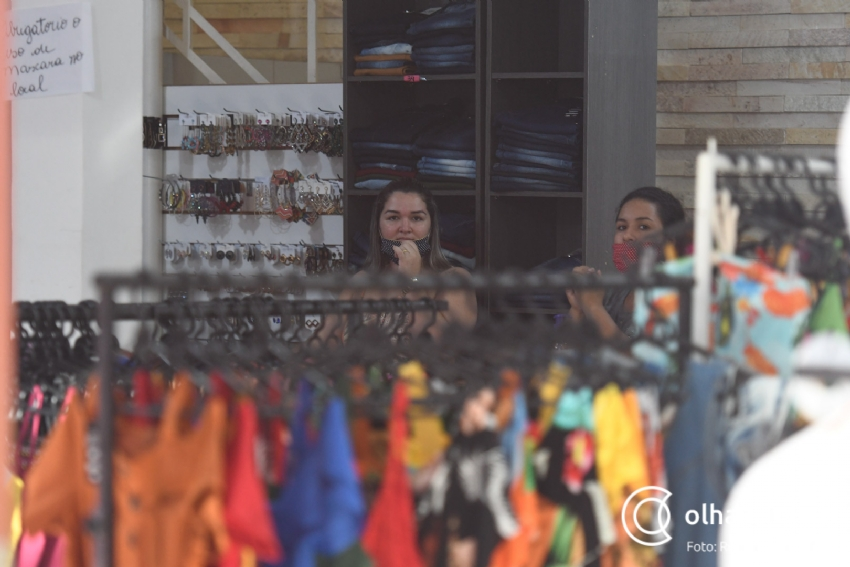mask_weared_incorrect: (374, 197, 438, 265)
